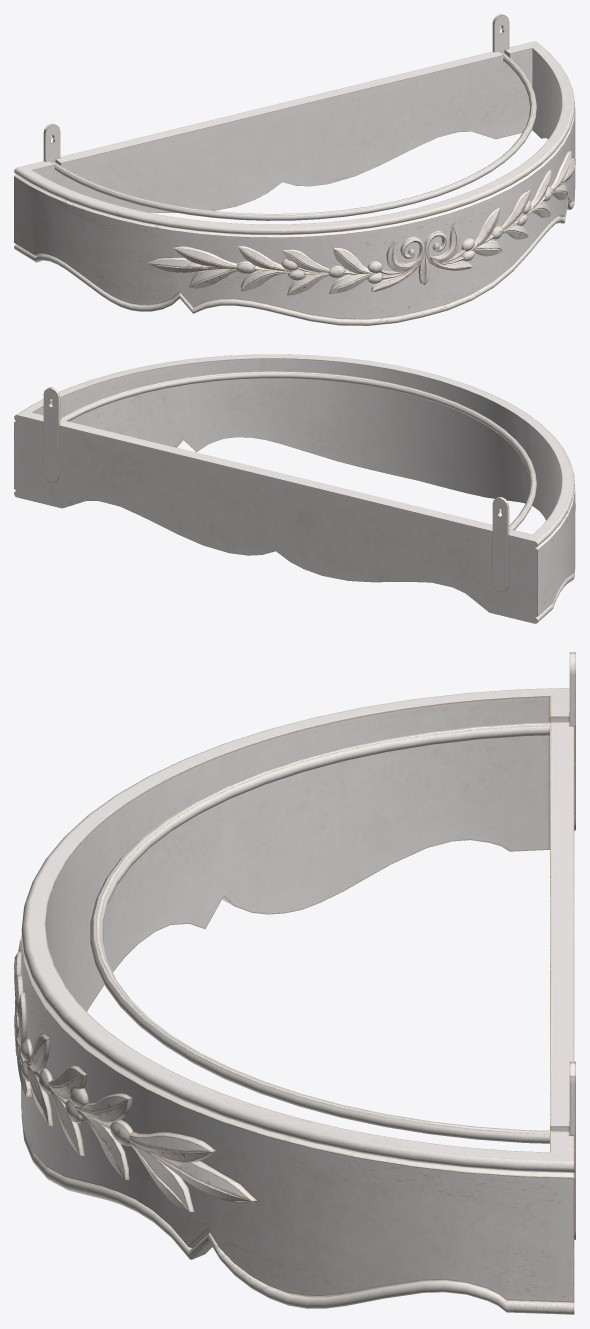
File: example179.glb
3 views of the same model, one above another, from view 1: azimuth 30°, elevation 25°; view 2: azimuth 150°, elevation 25°; view 3: azimuth 270°, elevation 25° (orthographic). The views are drawn at different scales.
Visible parts, largest first — view 1: Buffer Layer; view 2: Buffer Layer; view 3: Buffer Layer.
Part boxes in pixels (x1=…): Buffer Layer: x1=14, y1=14, x2=575, y2=325; Buffer Layer: x1=14, y1=354, x2=575, y2=623; Buffer Layer: x1=14, y1=652, x2=575, y2=1314.
Size of the model in its own units: 0.69 by 0.1775 by 0.343.
1 material, 1 textured.
